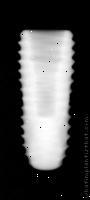Cowellmedi: (19, 30, 74, 172)
